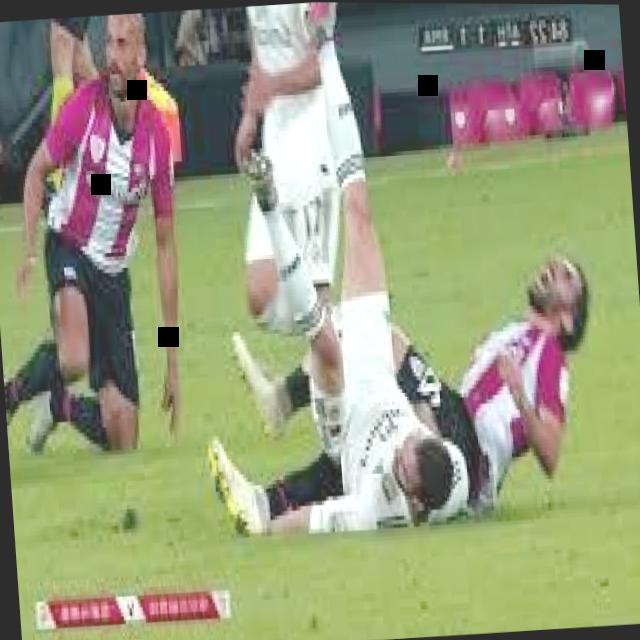Fall-Detected: (0, 9, 214, 485)
